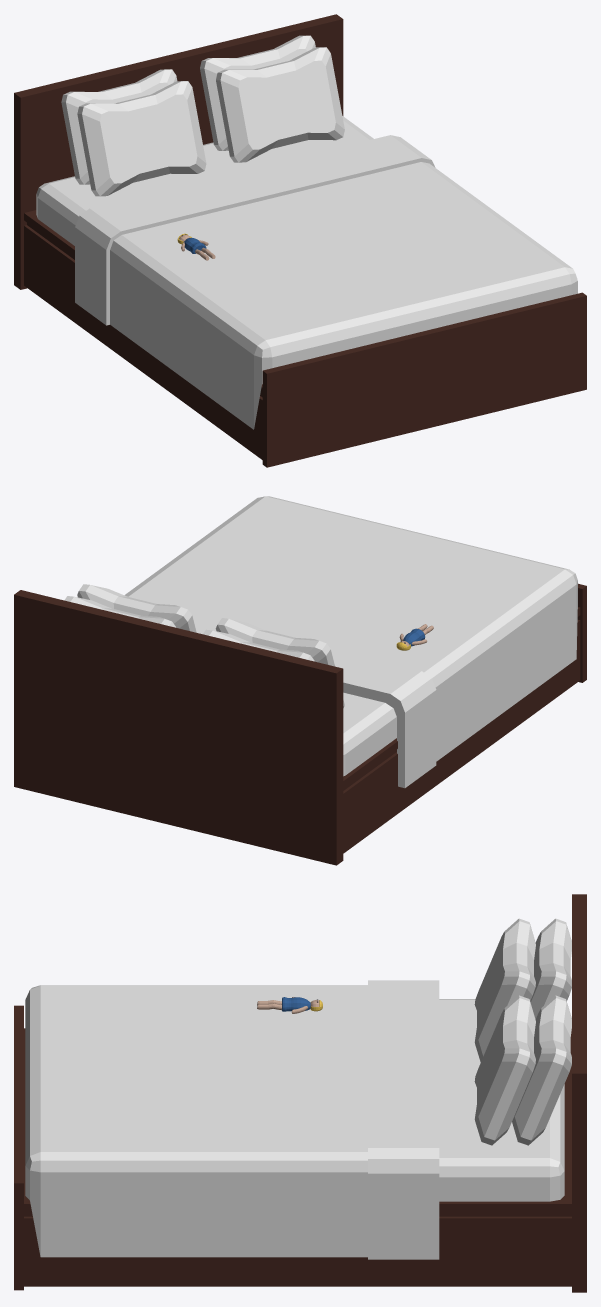
Rendered from Master Bed.fbx.
3 views of the same model, one above another, from view 1: azimuth 30°, elevation 25°; view 2: azimuth 150°, elevation 25°; view 3: azimuth 270°, elevation 25° (orthographic). The views are drawn at different scales.
Parts seen in each view (by area): view 1: Master Bed; view 2: Master Bed; view 3: Master Bed.
Part boxes in pixels (x1,y1,x2,y2): Master Bed: (14,14,586,467); Master Bed: (14,496,586,865); Master Bed: (14,894,586,1292).
Size of the model in its own units: 296 by 164 by 390.
